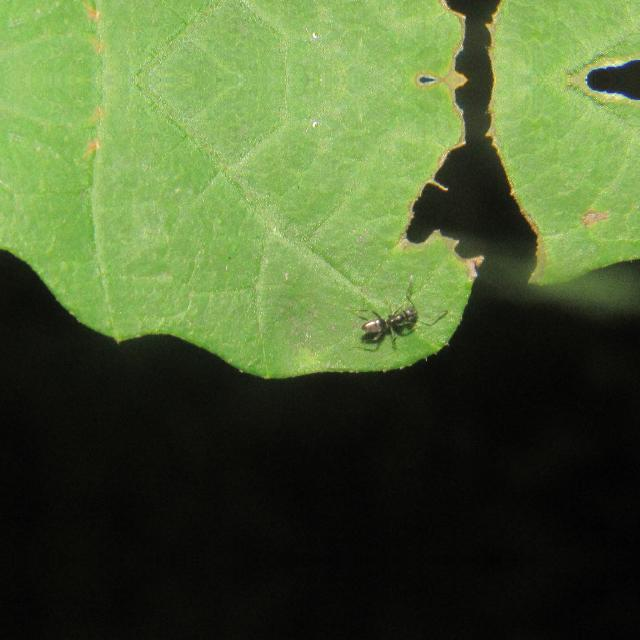Tapinoma: (346, 292, 434, 352)
